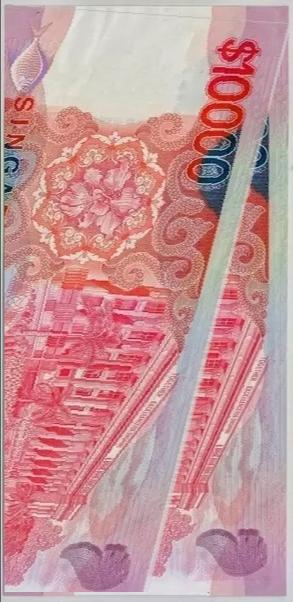10000SingaporeDollar: (4, 5, 292, 593)
